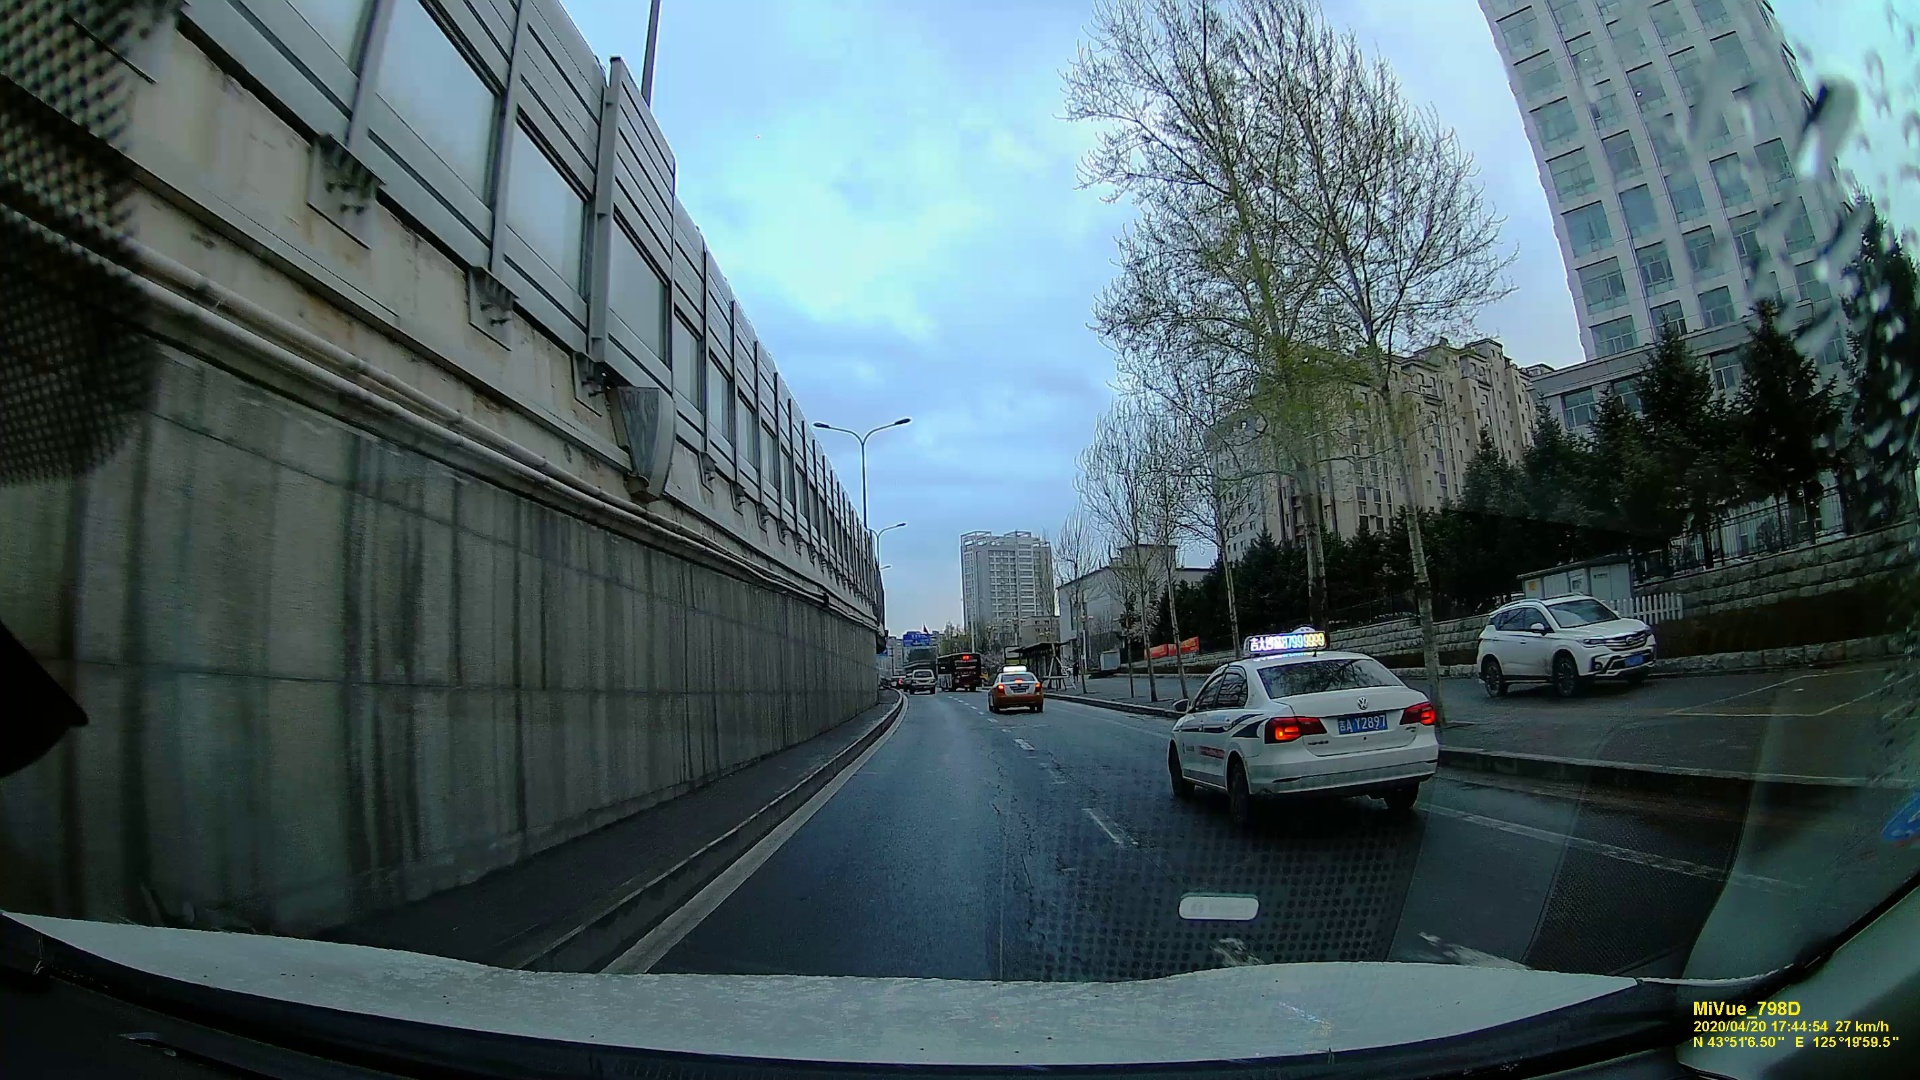bus: (936, 652, 982, 692)
person: (1070, 658, 1080, 684)
traffic_sign: (902, 633, 930, 645)
vehicle: (1161, 644, 1444, 823), (1479, 591, 1662, 696), (988, 671, 1043, 714), (910, 668, 935, 694)
